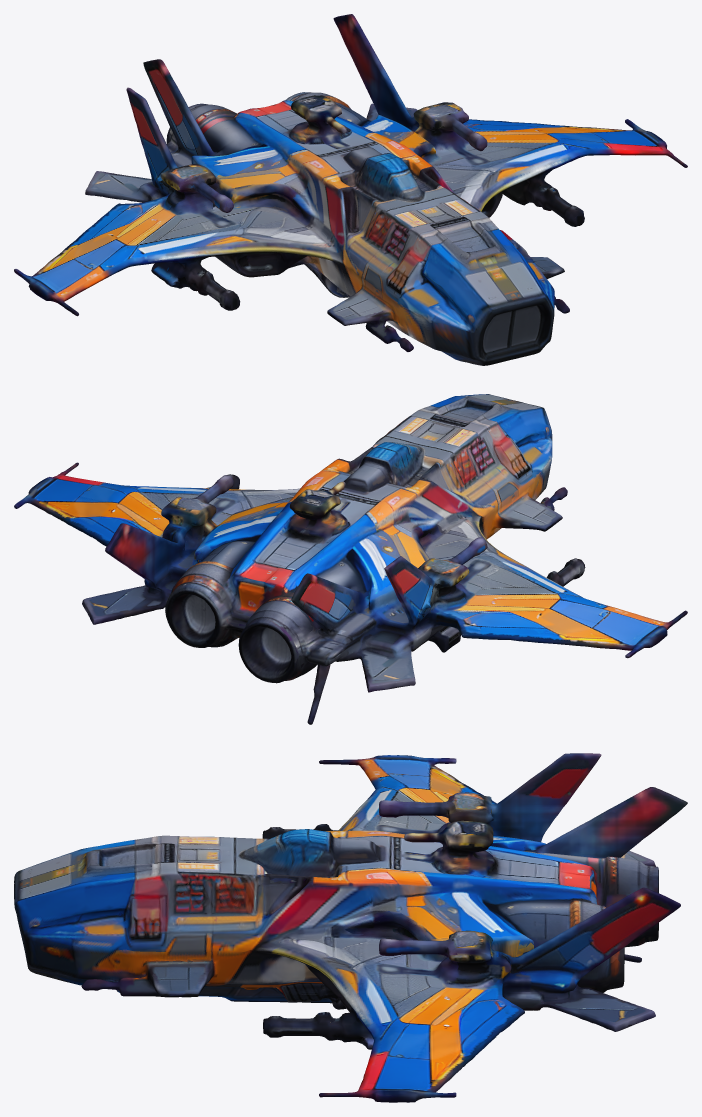
Rendered from pvp-agil.glb.
3 views of the same model, one above another, from view 1: azimuth 30°, elevation 25°; view 2: azimuth 150°, elevation 25°; view 3: azimuth 270°, elevation 25° (orthographic). The views are drawn at different scales.
Parts seen in each view (by area): view 1: input; view 2: input; view 3: input.
Part boxes in pixels (x1=…): input: x1=14, y1=14, x2=687, y2=365; input: x1=14, y1=394, x2=687, y2=724; input: x1=14, y1=753, x2=687, y2=1102.
Size of the model in its own units: 12 by 2.92 by 10.04.
Materials: 1 (1 with a texture image).
